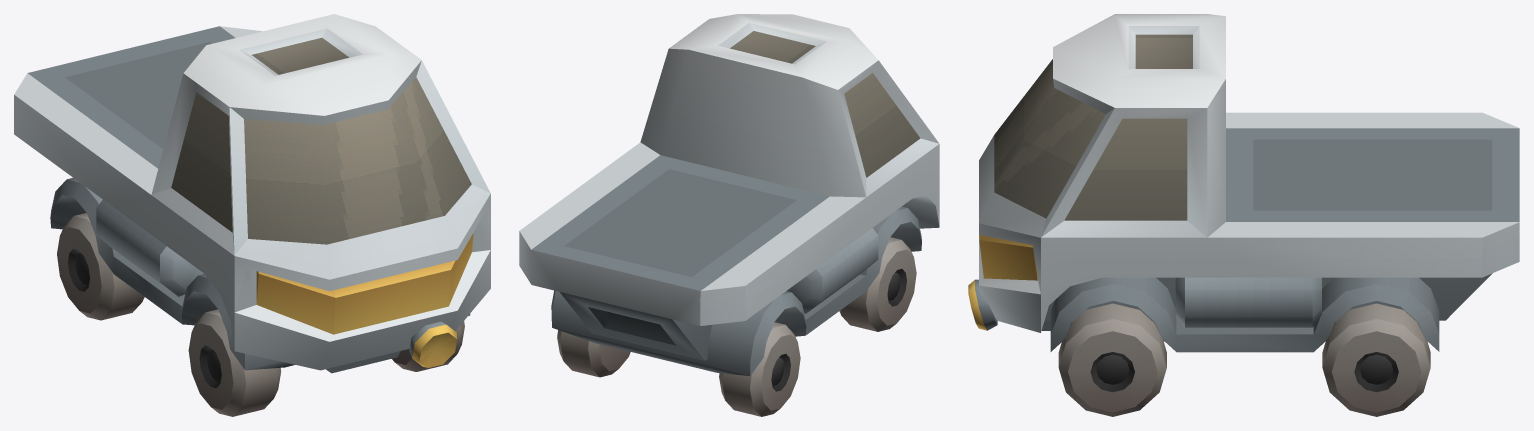
Rendered from kk_spacetruck.glb.
The picture shows the model from 3 angles, left to right: view 1: azimuth 30°, elevation 25°; view 2: azimuth 150°, elevation 25°; view 3: azimuth 270°, elevation 25°; orthographic projection. The views are drawn at different scales.
Parts seen in each view (by area): view 1: spacetruck, spacetruck_wheel_front_right, spacetruck_wheel_rear_right, spacetruck_wheel_front_left; view 2: spacetruck, spacetruck_wheel_rear_right, spacetruck_wheel_front_right, spacetruck_wheel_rear_left; view 3: spacetruck, spacetruck_wheel_front_left, spacetruck_wheel_rear_left.
Boxes of the visible parts, <box> form: spacetruck: <box>14,14,490,373</box>; spacetruck_wheel_front_right: <box>188,309,281,416</box>; spacetruck_wheel_rear_right: <box>57,213,144,320</box>; spacetruck_wheel_front_left: <box>392,321,464,371</box>; spacetruck: <box>519,14,939,375</box>; spacetruck_wheel_rear_right: <box>719,322,800,416</box>; spacetruck_wheel_front_right: <box>839,237,916,331</box>; spacetruck_wheel_rear_left: <box>557,330,630,377</box>; spacetruck: <box>968,14,1519,352</box>; spacetruck_wheel_front_left: <box>1058,303,1166,416</box>; spacetruck_wheel_rear_left: <box>1322,303,1430,416</box>.
Bounding box in the file's own units: 2.74 × 3.17 × 5.
Materials: 1 (1 with a texture image).
